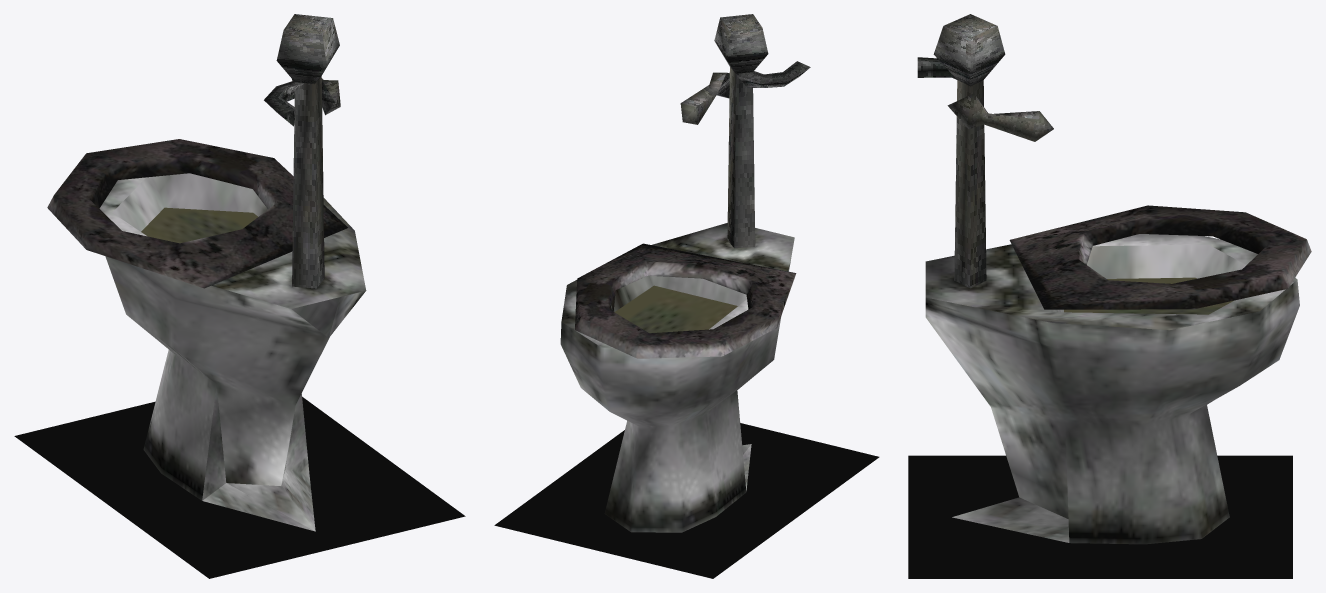
Rendered from DirtyOldToilet2.obj.
The picture shows the model from 3 angles, left to right: view 1: azimuth 30°, elevation 25°; view 2: azimuth 150°, elevation 25°; view 3: azimuth 270°, elevation 25°; orthographic projection. The views are drawn at different scales.
Visible parts, largest first — view 1: DirtyOldToilet2_L0_object; view 2: DirtyOldToilet2_L0_object; view 3: DirtyOldToilet2_L0_object.
Part boxes in pixels (x1,y1,x2,y2): DirtyOldToilet2_L0_object: [14, 14, 465, 578]; DirtyOldToilet2_L0_object: [494, 14, 879, 578]; DirtyOldToilet2_L0_object: [908, 14, 1311, 578].
Bounding box in the file's own units: 0.5044 × 0.9326 × 0.6923.
4 materials, 4 textured.
